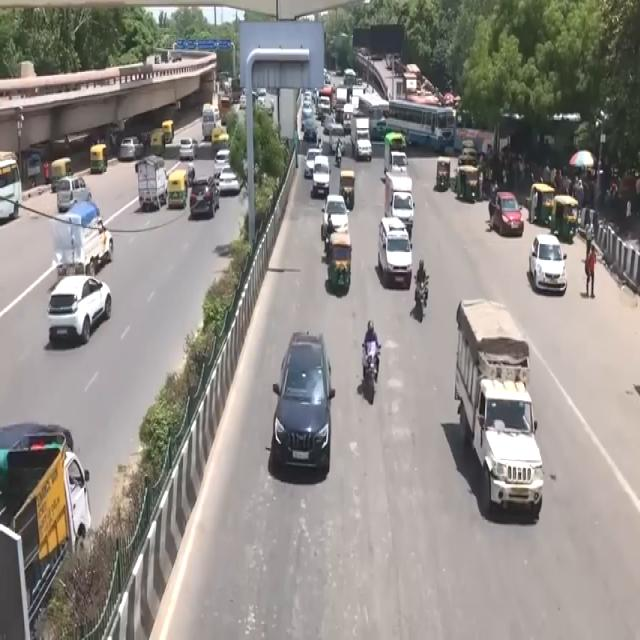BUS: (386, 99, 456, 154)
MOTORCYCLE: (362, 342, 380, 404), (416, 277, 429, 322)
TRUCK: (452, 304, 538, 526), (0, 420, 89, 597)
